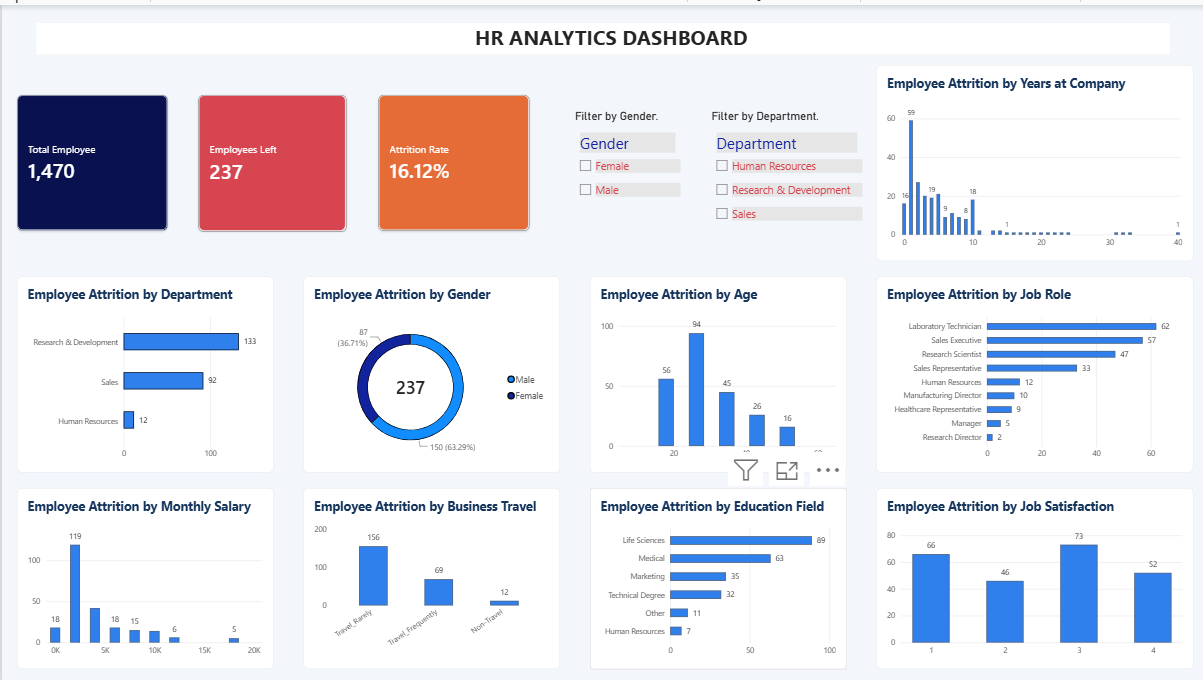

This screenshot's page, from the dashboard's own definition file:
{"tool":"powerbi","page":{"name":"HR Overview","canvas":[1920,1080],"ordinal":0},"visuals":[{"type":"cardVisual","fields":{"Data":["WA_Fn-UseC_-HR-Employee-Attrition.Total Employee Exact"]},"box":[24,144,240,216],"z":0},{"type":"cardVisual","fields":{"Data":["WA_Fn-UseC_-HR-Employee-Attrition.Employees Left"]},"box":[312,144,235,217.5],"z":1},{"type":"cardVisual","fields":{"Data":["WA_Fn-UseC_-HR-Employee-Attrition.Attrition Rate"]},"box":[600,144,240,216],"z":2},{"type":"clusteredBarChart","title":"Employee Attrition by Department","fields":{"Category":["WA_Fn-UseC_-HR-Employee-Attrition.Department"],"Y":["WA_Fn-UseC_-HR-Employee-Attrition.Employees Left"]},"box":[24,432,408,312],"z":3},{"type":"donutChart","title":"\tEmployee Attrition by Gender","fields":{"Category":["WA_Fn-UseC_-HR-Employee-Attrition.Gender"],"Y":["WA_Fn-UseC_-HR-Employee-Attrition.Employees Left"]},"box":[480,432,408,312],"z":4},{"type":"clusteredColumnChart","title":"\tEmployee Attrition by Age","fields":{"Category":["WA_Fn-UseC_-HR-Employee-Attrition.Age (bins)"],"Y":["WA_Fn-UseC_-HR-Employee-Attrition.Employees Left"]},"box":[936,432,408,312],"z":6},{"type":"clusteredBarChart","title":"\tEmployee Attrition by Job Role","fields":{"Category":["WA_Fn-UseC_-HR-Employee-Attrition.JobRole"],"Y":["CountNonNull(WA_Fn-UseC_-HR-Employee-Attrition.EmployeeNumber)"]},"box":[1392,432,504,312],"z":9},{"type":"clusteredColumnChart","title":"Employee Attrition by Business Travel","fields":{"Category":["WA_Fn-UseC_-HR-Employee-Attrition.BusinessTravel"],"Y":["CountNonNull(WA_Fn-UseC_-HR-Employee-Attrition.EmployeeNumber)"]},"box":[480,768,408,288],"z":10},{"type":"clusteredBarChart","title":"\tEmployee Attrition by Education Field","fields":{"Category":["WA_Fn-UseC_-HR-Employee-Attrition.EducationField"],"Y":["CountNonNull(WA_Fn-UseC_-HR-Employee-Attrition.EmployeeNumber)"]},"box":[936,768,408,288],"z":11},{"type":"textbox","box":[55,27.5,1802.5,50],"z":13},{"type":"clusteredColumnChart","title":"Employee Attrition by Monthly Salary","fields":{"Category":["WA_Fn-UseC_-HR-Employee-Attrition.MonthlyIncome (bins)"],"Y":["CountNonNull(WA_Fn-UseC_-HR-Employee-Attrition.EmployeeNumber)"]},"box":[24,768,408,288],"z":14},{"type":"clusteredColumnChart","title":"Employee Attrition by Years at Company","fields":{"Category":["WA_Fn-UseC_-HR-Employee-Attrition.YearsAtCompany"],"Y":["CountNonNull(WA_Fn-UseC_-HR-Employee-Attrition.EmployeeNumber)"]},"box":[1392,96,504,312],"z":15},{"type":"clusteredColumnChart","title":"Employee Attrition by Job Satisfaction","fields":{"Category":["WA_Fn-UseC_-HR-Employee-Attrition.JobSatisfaction"],"Y":["CountNonNull(WA_Fn-UseC_-HR-Employee-Attrition.EmployeeNumber)"]},"box":[1392,768,504,288],"z":16},{"type":"slicer","title":"Filter by Department.","fields":{"Values":["WA_Fn-UseC_-HR-Employee-Attrition.Department"]},"box":[1128,168,240,192],"z":17},{"type":"slicer","title":"Filter by Gender.","fields":{"Values":["WA_Fn-UseC_-HR-Employee-Attrition.Gender"]},"box":[912,168,168,168],"z":18}]}

Visuals, with their boxes in screenshot pixels (x1, y1, x2, y2), scaled from the page's 1920x1080 canvas onto the 1203x680 screenshot:
cardVisual - WA_Fn-UseC_-HR-Employee-Attrition.Total Employee Exact: Rect(15, 91, 165, 227)
cardVisual - WA_Fn-UseC_-HR-Employee-Attrition.Employees Left: Rect(195, 91, 343, 228)
cardVisual - WA_Fn-UseC_-HR-Employee-Attrition.Attrition Rate: Rect(376, 91, 526, 227)
"Employee Attrition by Department" clusteredBarChart: Rect(15, 272, 271, 468)
"	Employee Attrition by Gender" donutChart: Rect(301, 272, 556, 468)
"	Employee Attrition by Age" clusteredColumnChart: Rect(586, 272, 842, 468)
"	Employee Attrition by Job Role" clusteredBarChart: Rect(872, 272, 1188, 468)
"Employee Attrition by Business Travel" clusteredColumnChart: Rect(301, 484, 556, 665)
"	Employee Attrition by Education Field" clusteredBarChart: Rect(586, 484, 842, 665)
textbox: Rect(34, 17, 1164, 49)
"Employee Attrition by Monthly Salary" clusteredColumnChart: Rect(15, 484, 271, 665)
"Employee Attrition by Years at Company" clusteredColumnChart: Rect(872, 60, 1188, 257)
"Employee Attrition by Job Satisfaction" clusteredColumnChart: Rect(872, 484, 1188, 665)
"Filter by Department." slicer: Rect(707, 106, 857, 227)
"Filter by Gender." slicer: Rect(571, 106, 677, 212)
